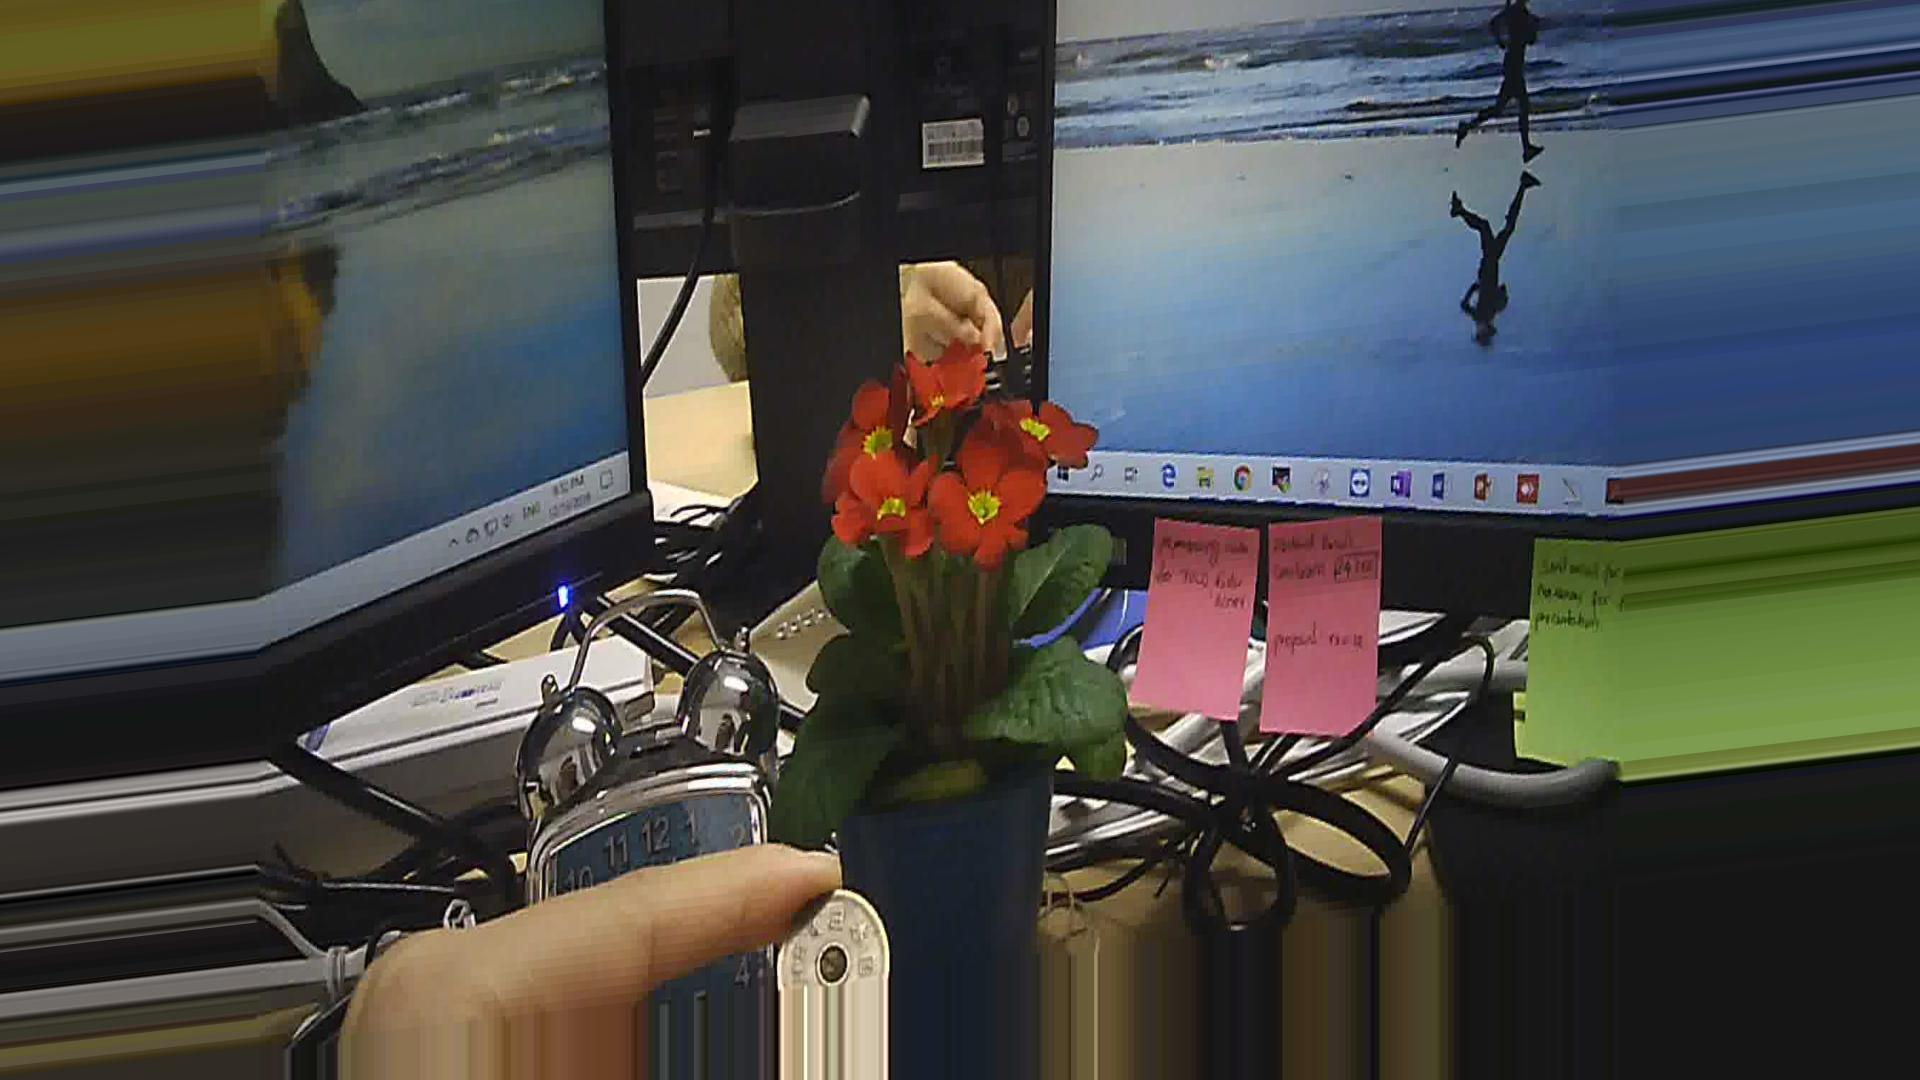5 Yen: (766, 866, 889, 989)
